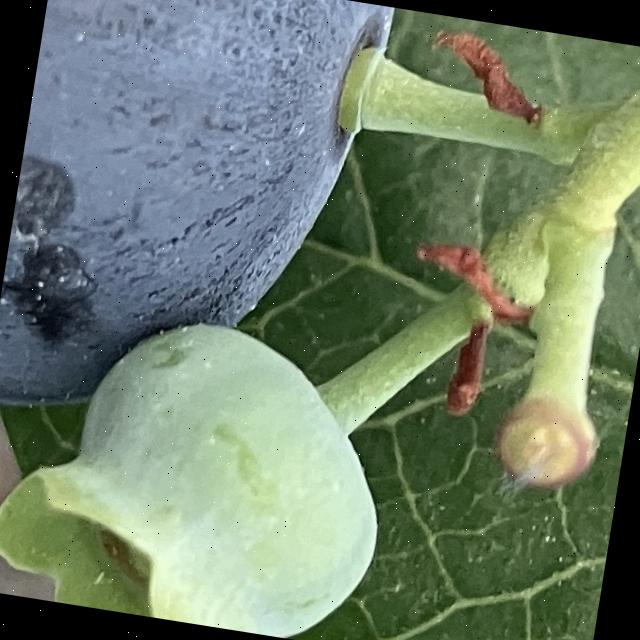Blueberries: (0, 0, 405, 461)
